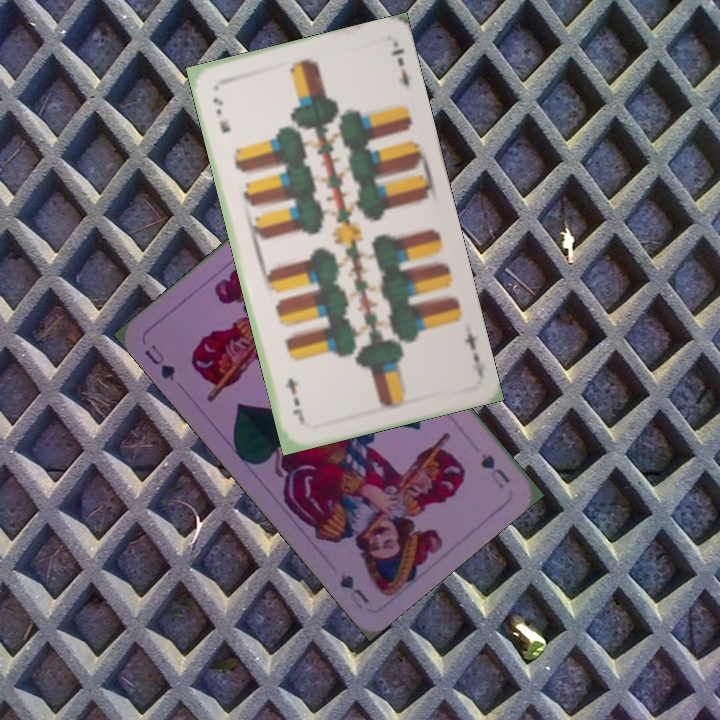E7: (209, 93, 233, 135), (460, 328, 482, 366)
GU: (140, 340, 178, 384), (476, 448, 513, 491)
